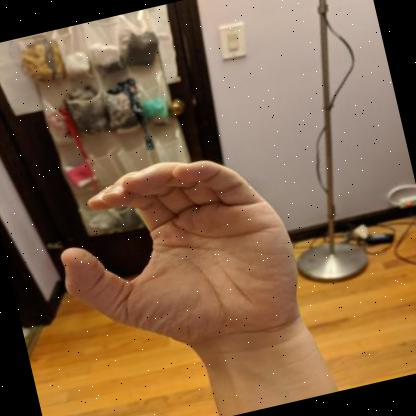C: (61, 160, 308, 355)
